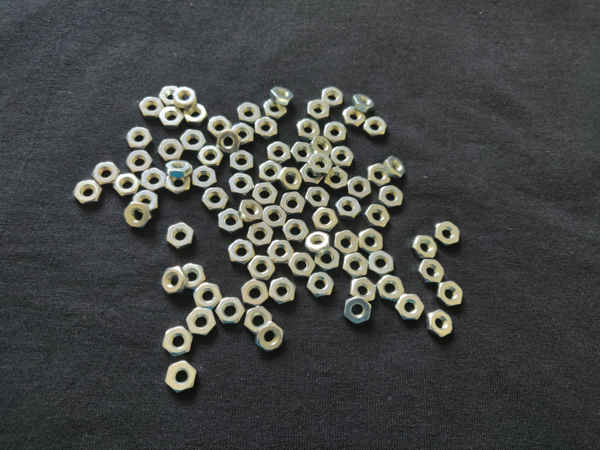nut: (165, 360, 197, 394), (215, 297, 246, 330), (162, 326, 192, 358), (123, 199, 152, 231), (186, 308, 215, 337), (256, 322, 282, 354), (269, 278, 297, 307), (375, 275, 405, 302), (357, 227, 387, 254), (139, 168, 169, 195), (344, 297, 372, 325), (437, 280, 465, 308), (227, 238, 254, 267), (278, 163, 305, 192), (167, 221, 193, 251), (396, 295, 423, 323), (343, 253, 371, 280), (246, 306, 272, 335), (193, 284, 222, 310), (306, 273, 335, 299), (125, 149, 154, 175), (228, 122, 257, 148), (163, 267, 188, 297), (429, 309, 454, 339), (332, 229, 359, 256), (436, 220, 462, 248), (252, 180, 278, 208), (336, 195, 362, 223), (226, 172, 255, 197), (124, 126, 154, 150), (246, 256, 276, 280), (350, 278, 377, 304), (342, 103, 368, 130), (416, 259, 444, 284), (216, 208, 244, 233), (312, 207, 340, 232), (228, 149, 256, 174), (265, 140, 293, 165), (281, 219, 310, 243), (304, 231, 333, 255), (239, 197, 265, 223), (217, 130, 243, 156), (93, 161, 120, 186), (241, 281, 268, 306), (140, 168, 167, 193), (166, 170, 191, 197), (278, 191, 305, 216), (181, 262, 205, 290), (413, 235, 441, 259), (291, 252, 315, 280), (255, 160, 284, 183), (248, 221, 274, 246), (268, 240, 294, 265), (73, 180, 100, 204), (114, 173, 141, 197), (378, 185, 405, 209), (315, 247, 342, 271), (135, 190, 162, 214), (363, 114, 390, 138), (368, 252, 396, 275), (305, 185, 333, 208), (235, 101, 263, 124), (261, 97, 289, 120), (263, 204, 288, 229), (159, 137, 184, 162), (180, 127, 206, 151), (205, 114, 231, 138), (366, 162, 392, 186), (296, 117, 323, 140), (196, 145, 224, 167), (139, 95, 163, 120), (231, 149, 256, 173), (202, 187, 228, 210), (192, 166, 218, 189), (157, 106, 183, 129), (292, 138, 315, 164), (329, 145, 355, 168), (165, 161, 196, 180), (253, 117, 281, 138), (309, 153, 334, 176), (299, 163, 324, 186), (172, 86, 198, 108), (348, 177, 374, 199), (159, 84, 184, 106), (183, 103, 208, 125), (269, 85, 294, 107), (307, 99, 333, 120), (324, 122, 350, 143), (353, 90, 377, 112), (385, 155, 407, 179), (320, 86, 344, 107)
